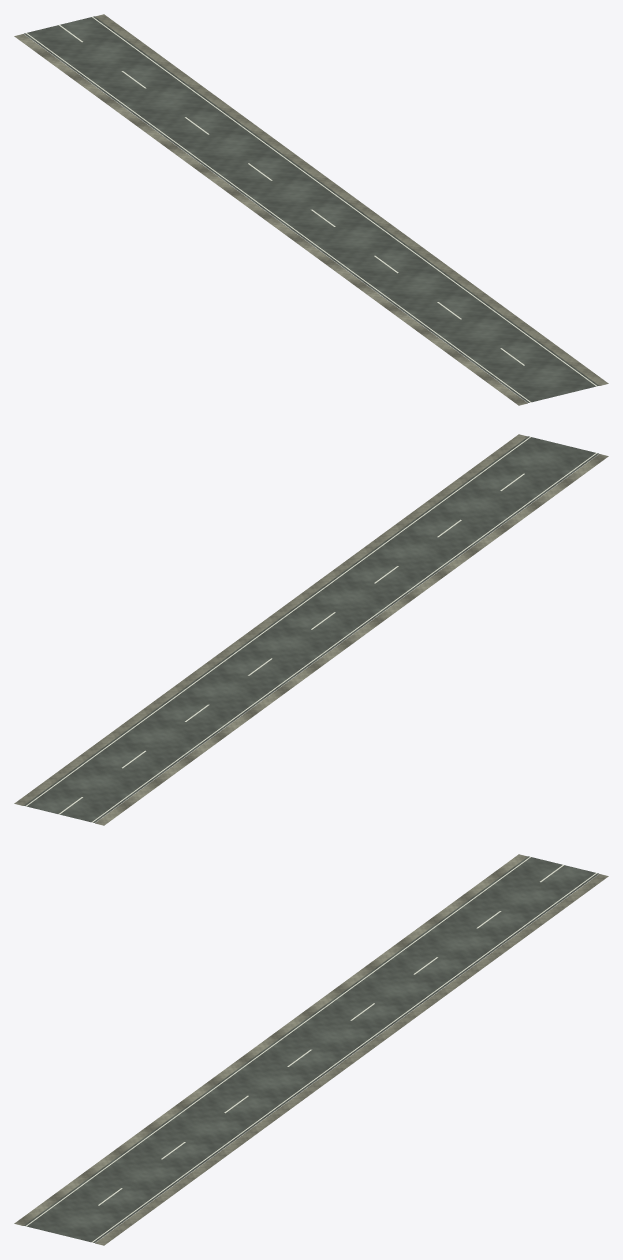
Rendered from road_countryside_straight_64m.glb.
The picture shows the model from 3 angles, top to bottom: view 1: azimuth 30°, elevation 25°; view 2: azimuth 150°, elevation 25°; view 3: azimuth 330°, elevation 25°; orthographic projection.
Visible parts, largest first — view 1: road_surface, static_gravel, static_road_marking; view 2: road_surface, static_gravel, static_road_marking; view 3: road_surface, static_gravel, static_road_marking.
Part boxes in pixels (box(x1,y1,x2,y2)): road_surface: box(24, 16, 598, 402); static_gravel: box(14, 14, 608, 405); static_road_marking: box(26, 16, 597, 402); road_surface: box(24, 436, 598, 822); static_gravel: box(14, 434, 608, 825); static_road_marking: box(25, 436, 596, 822); road_surface: box(24, 856, 598, 1242); static_gravel: box(14, 854, 608, 1245); static_road_marking: box(25, 856, 596, 1242).
Bounding box in the file's own units: 6.6 × 0.027 × 64.
Materials: 3 (2 with a texture image).
